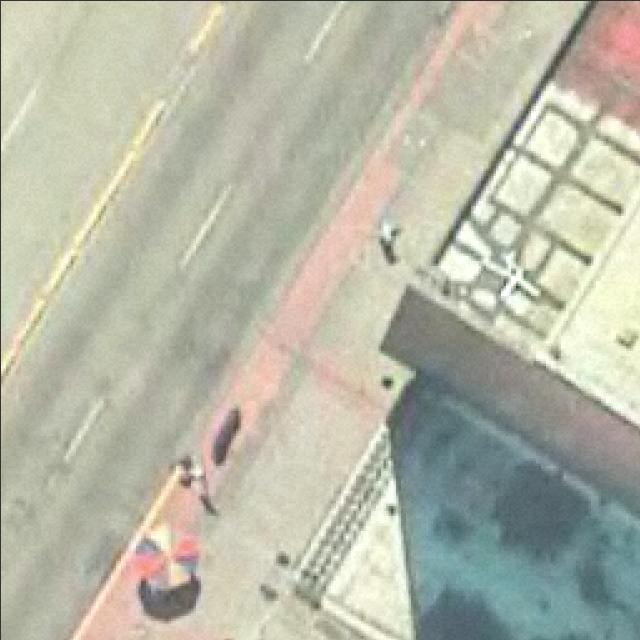vendedor_ambulante: (130, 521, 202, 595)
